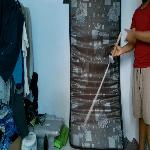Pedang: (80, 22, 126, 126)
